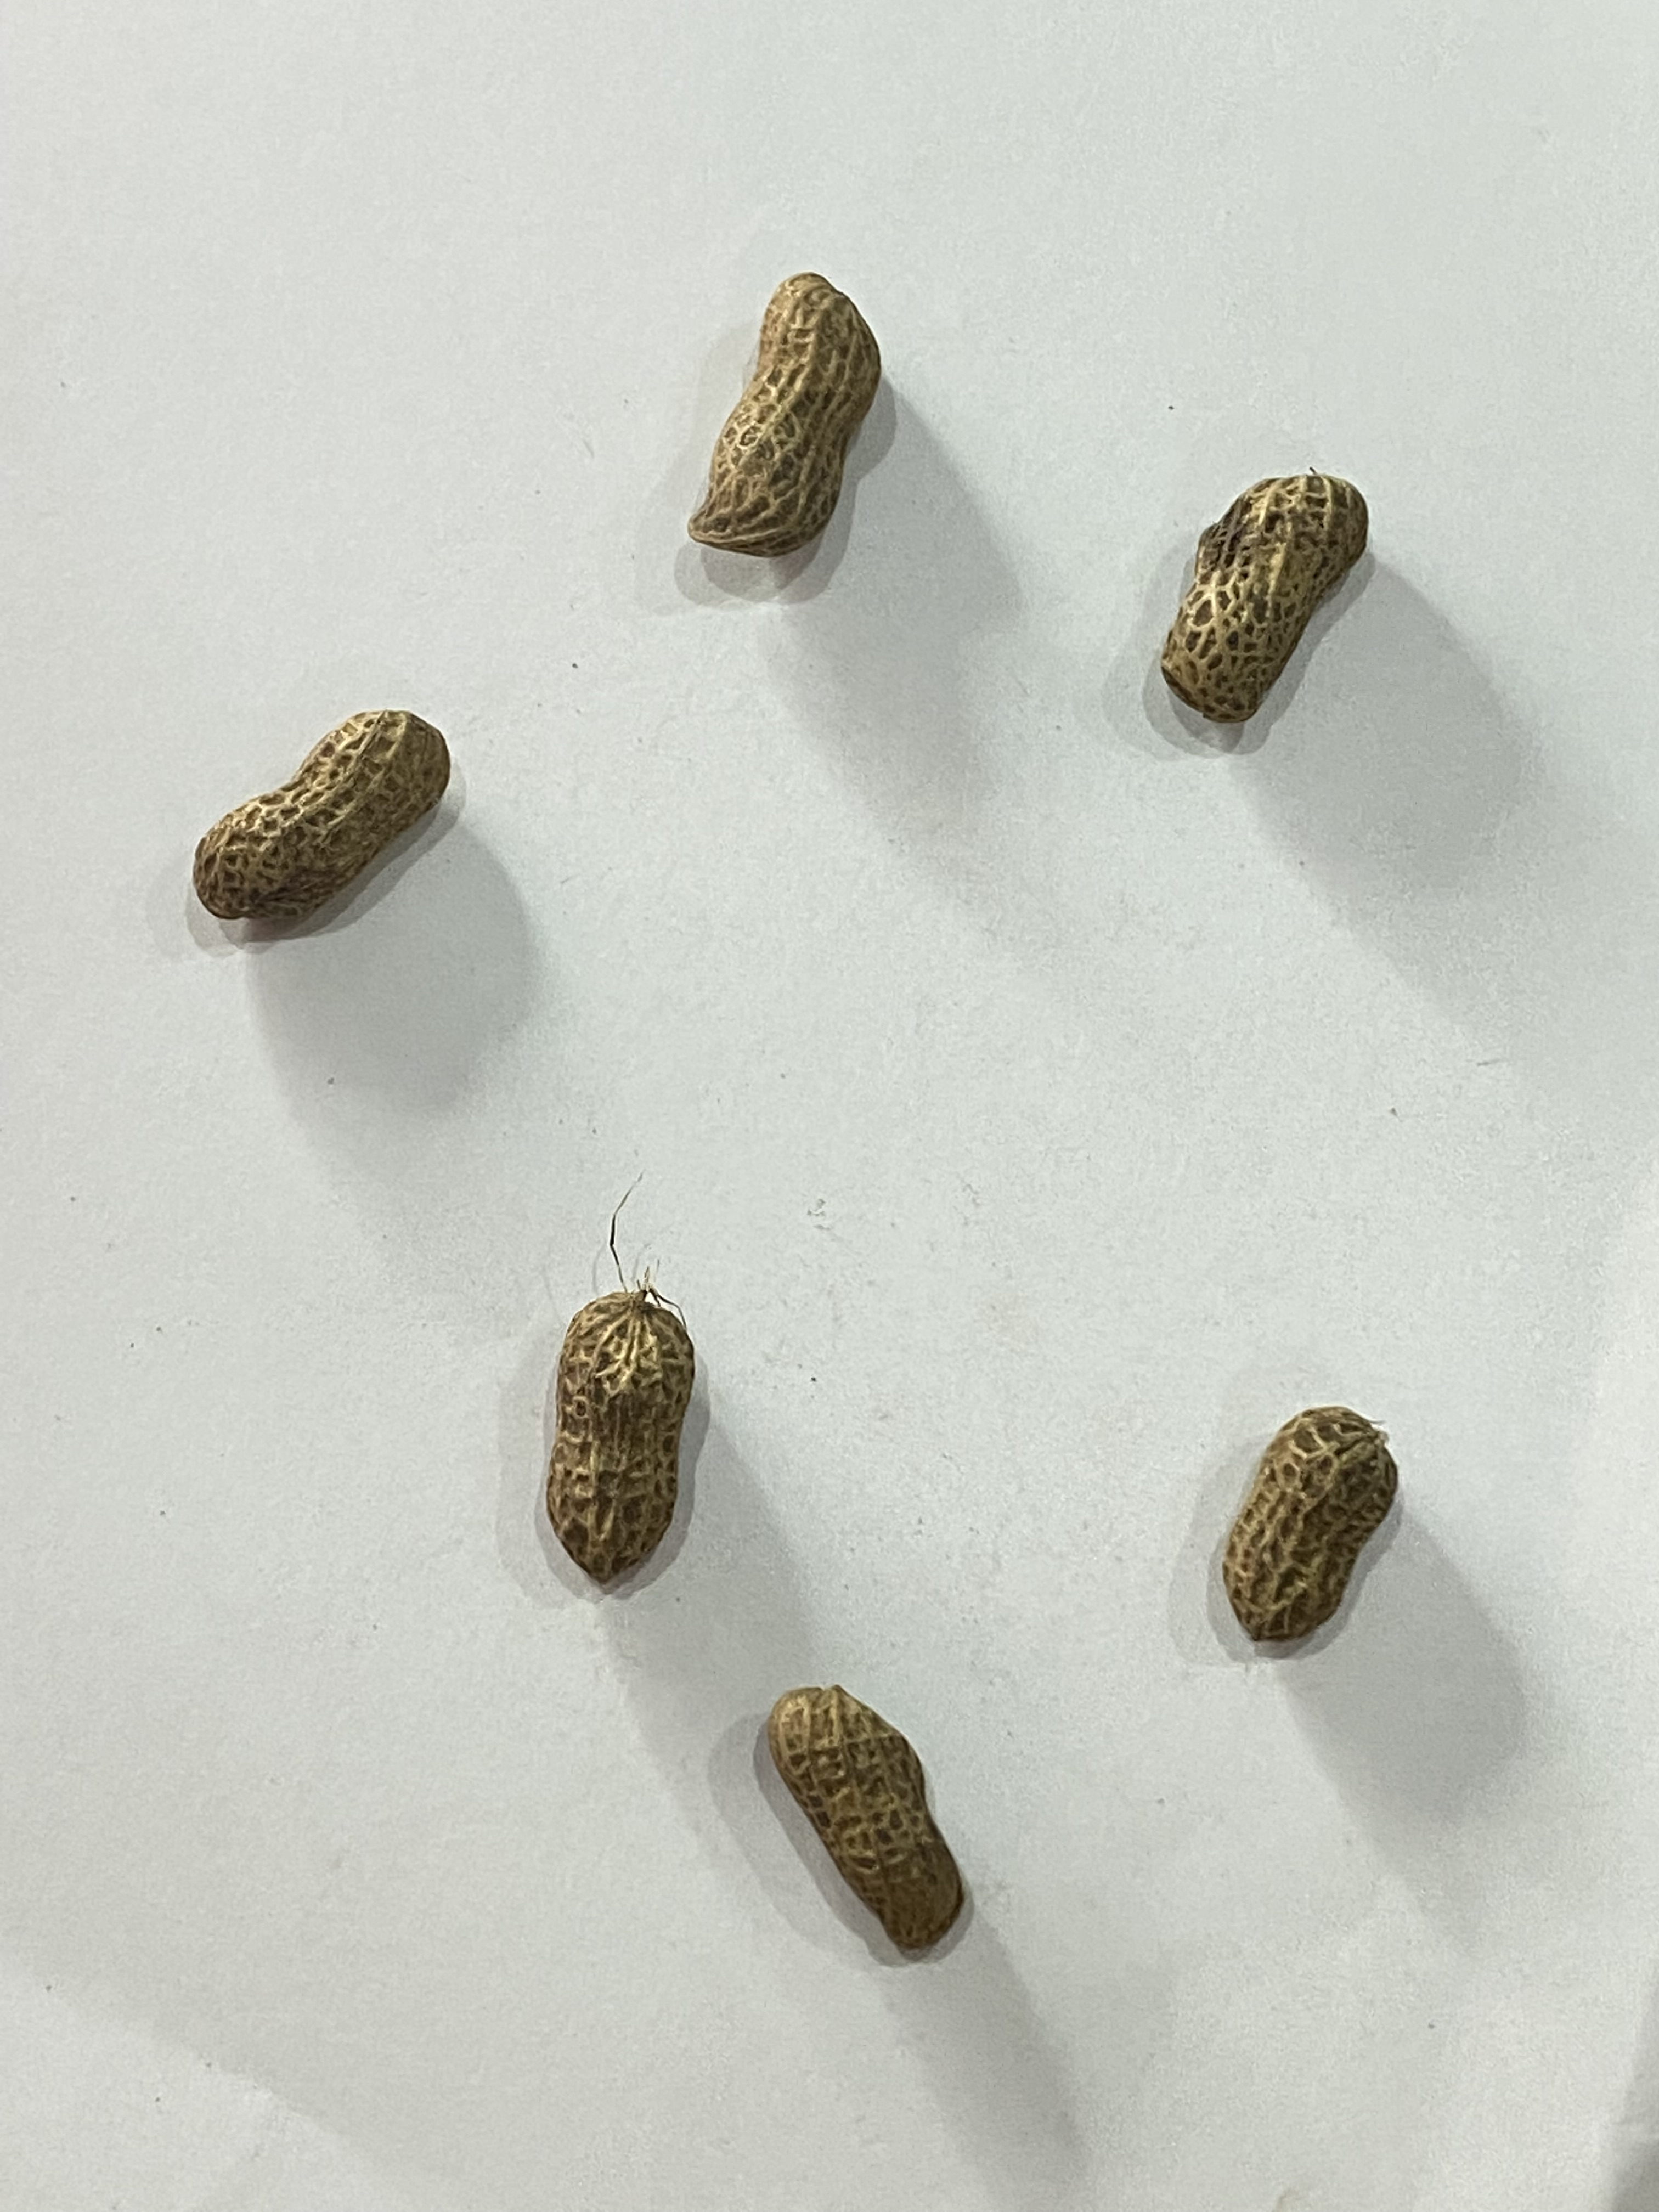kacang2: (1143, 434, 1408, 759), (155, 664, 453, 934), (683, 239, 896, 603), (1204, 1367, 1441, 1669), (519, 1240, 711, 1606), (763, 1655, 979, 1958)
